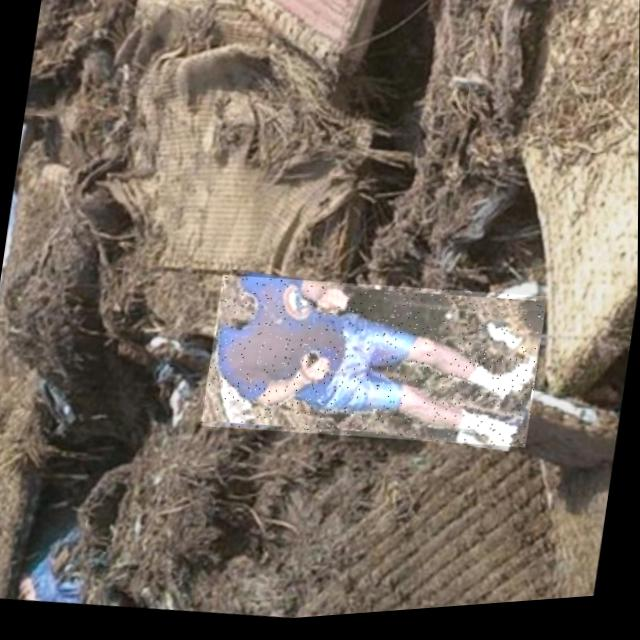Person in Rubble: (201, 258, 548, 474)
